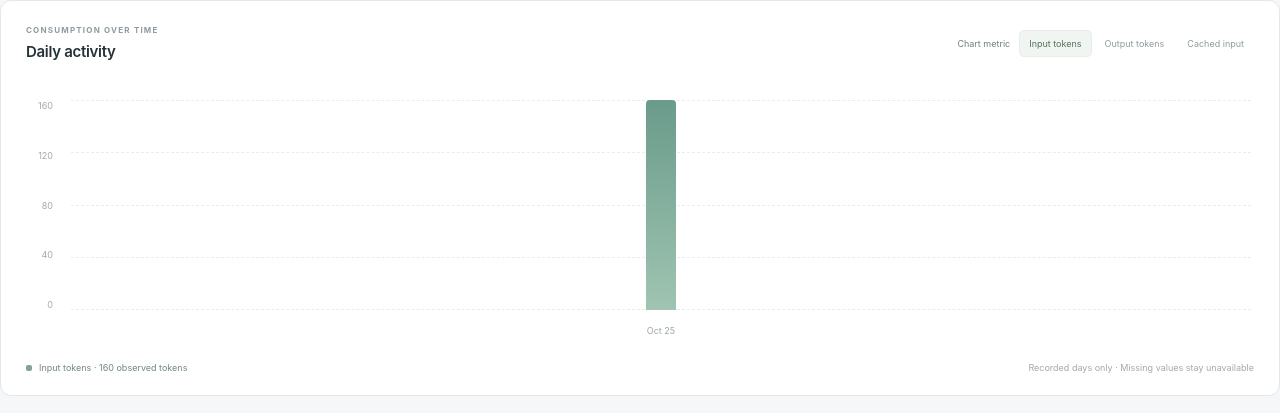
switches between input, output, and cached token observations
Check: the text "Input tokens · 160 observed tokens" is shown, box [26, 362, 187, 373]
What coordinates should you click on to do the following:
click the button "Output tokens"
I would click on:
 (1134, 43)
Its box is [1095, 30, 1174, 56].
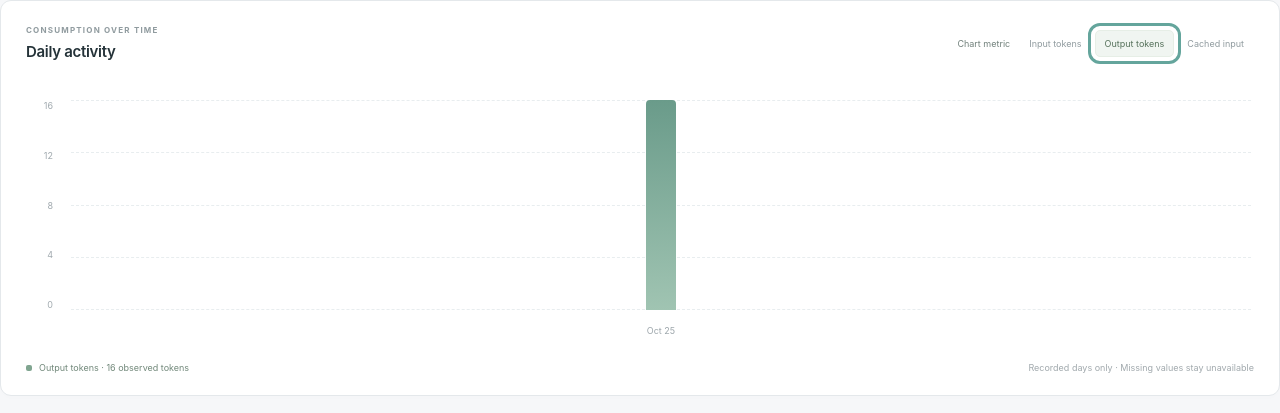
Check: the button named "Oct 25, Output tokens: 16 tokens" is shown, box [646, 100, 676, 310]
Check: the text "Output tokens · 16 observed tokens" is shown, box [26, 362, 189, 373]
What coordinates should you click on to do the following:
click the button "Cached input"
I would click on:
 (1216, 43)
Its box is [1177, 30, 1254, 56].
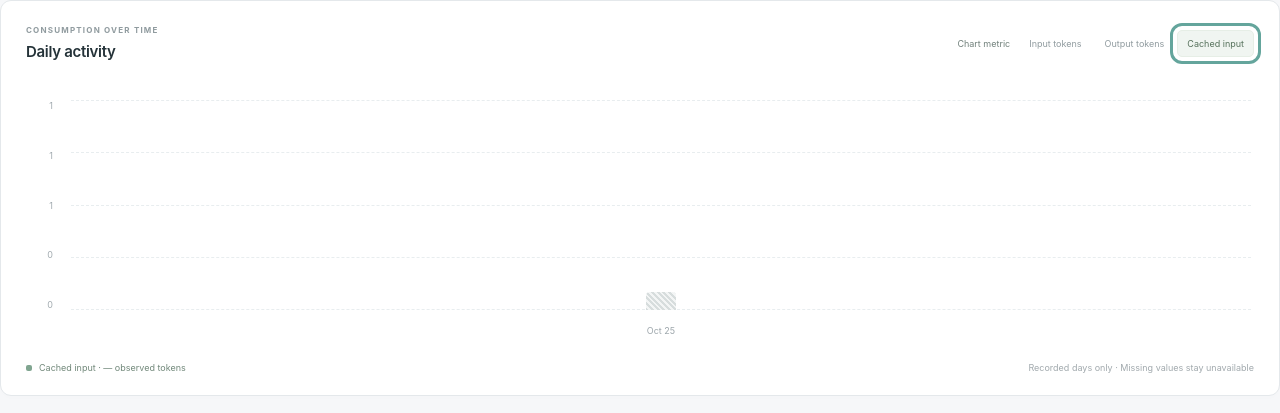
Check: the button named "Oct 25, Cached input: unavailable" is shown, box [646, 292, 676, 310]
Check: the text "Cached input · — observed tokens" is shown, box [26, 362, 186, 373]
